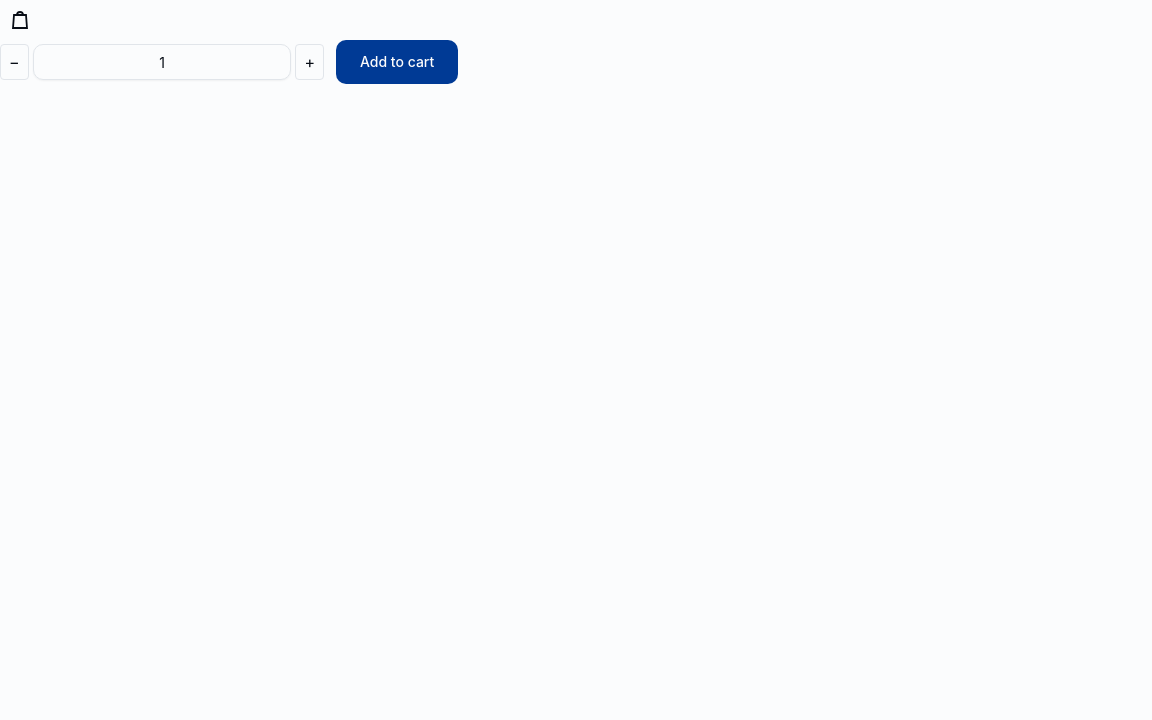
cart UI › adds to cart with the CSRF header and opens the mini-cart with lines and totals
Expected: the button named "Open cart (0 items)" is shown, [0, 0, 40, 40]
Click the button named "More Oxford Shirt" at (310, 62), box [295, 44, 324, 80]
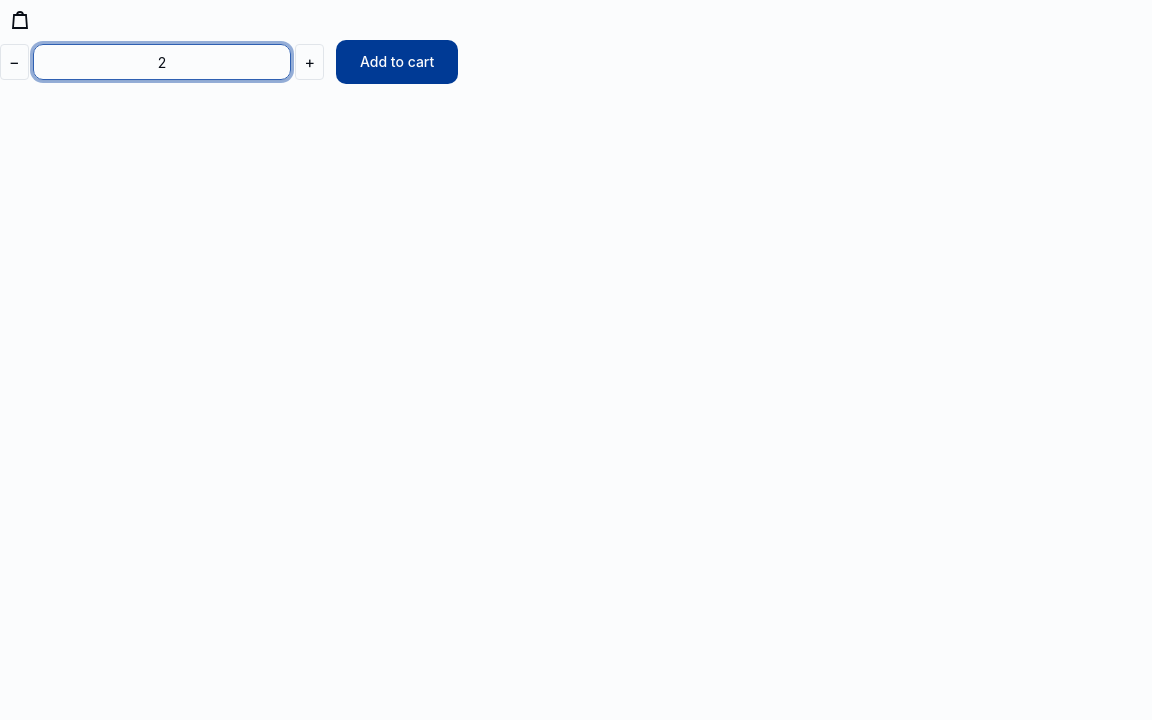
Click the button "Add to cart" at (397, 62), box [336, 40, 458, 84]
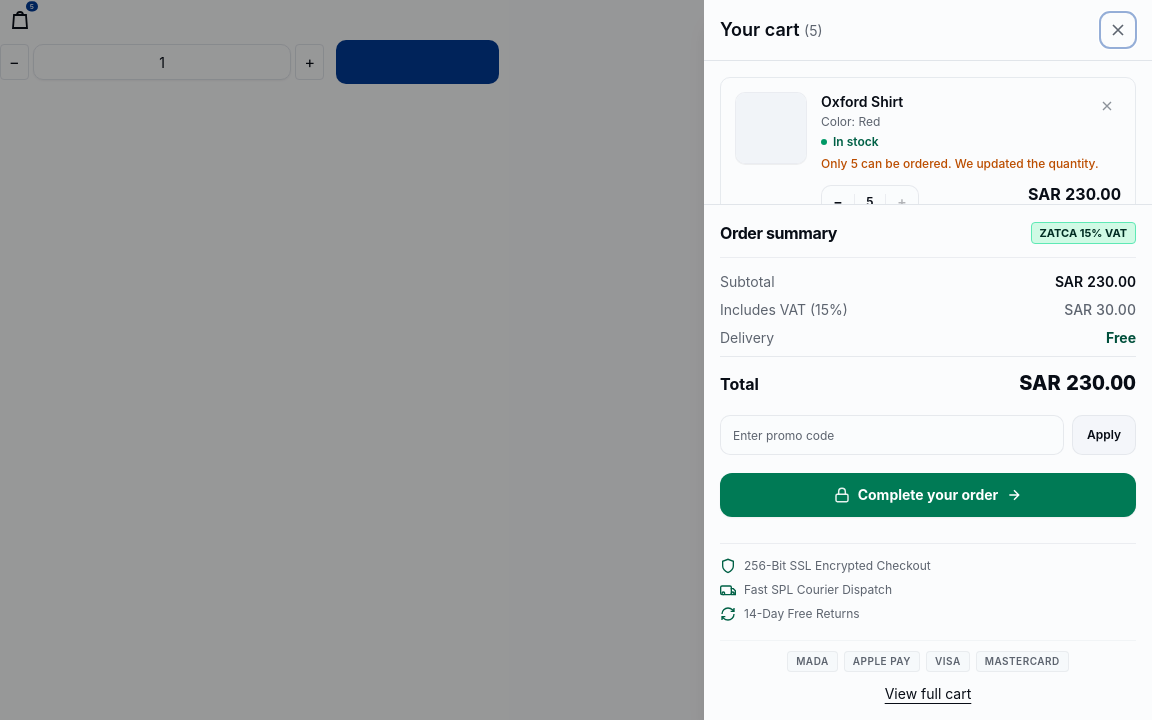
Now the text "Color: Red" is shown, box [821, 114, 880, 129]
Now the text "Only 5 can be ordered. We updated the quantity." is shown, box [821, 156, 1121, 172]
Now the text "Includes VAT (15%)" is shown, box [720, 300, 848, 320]
